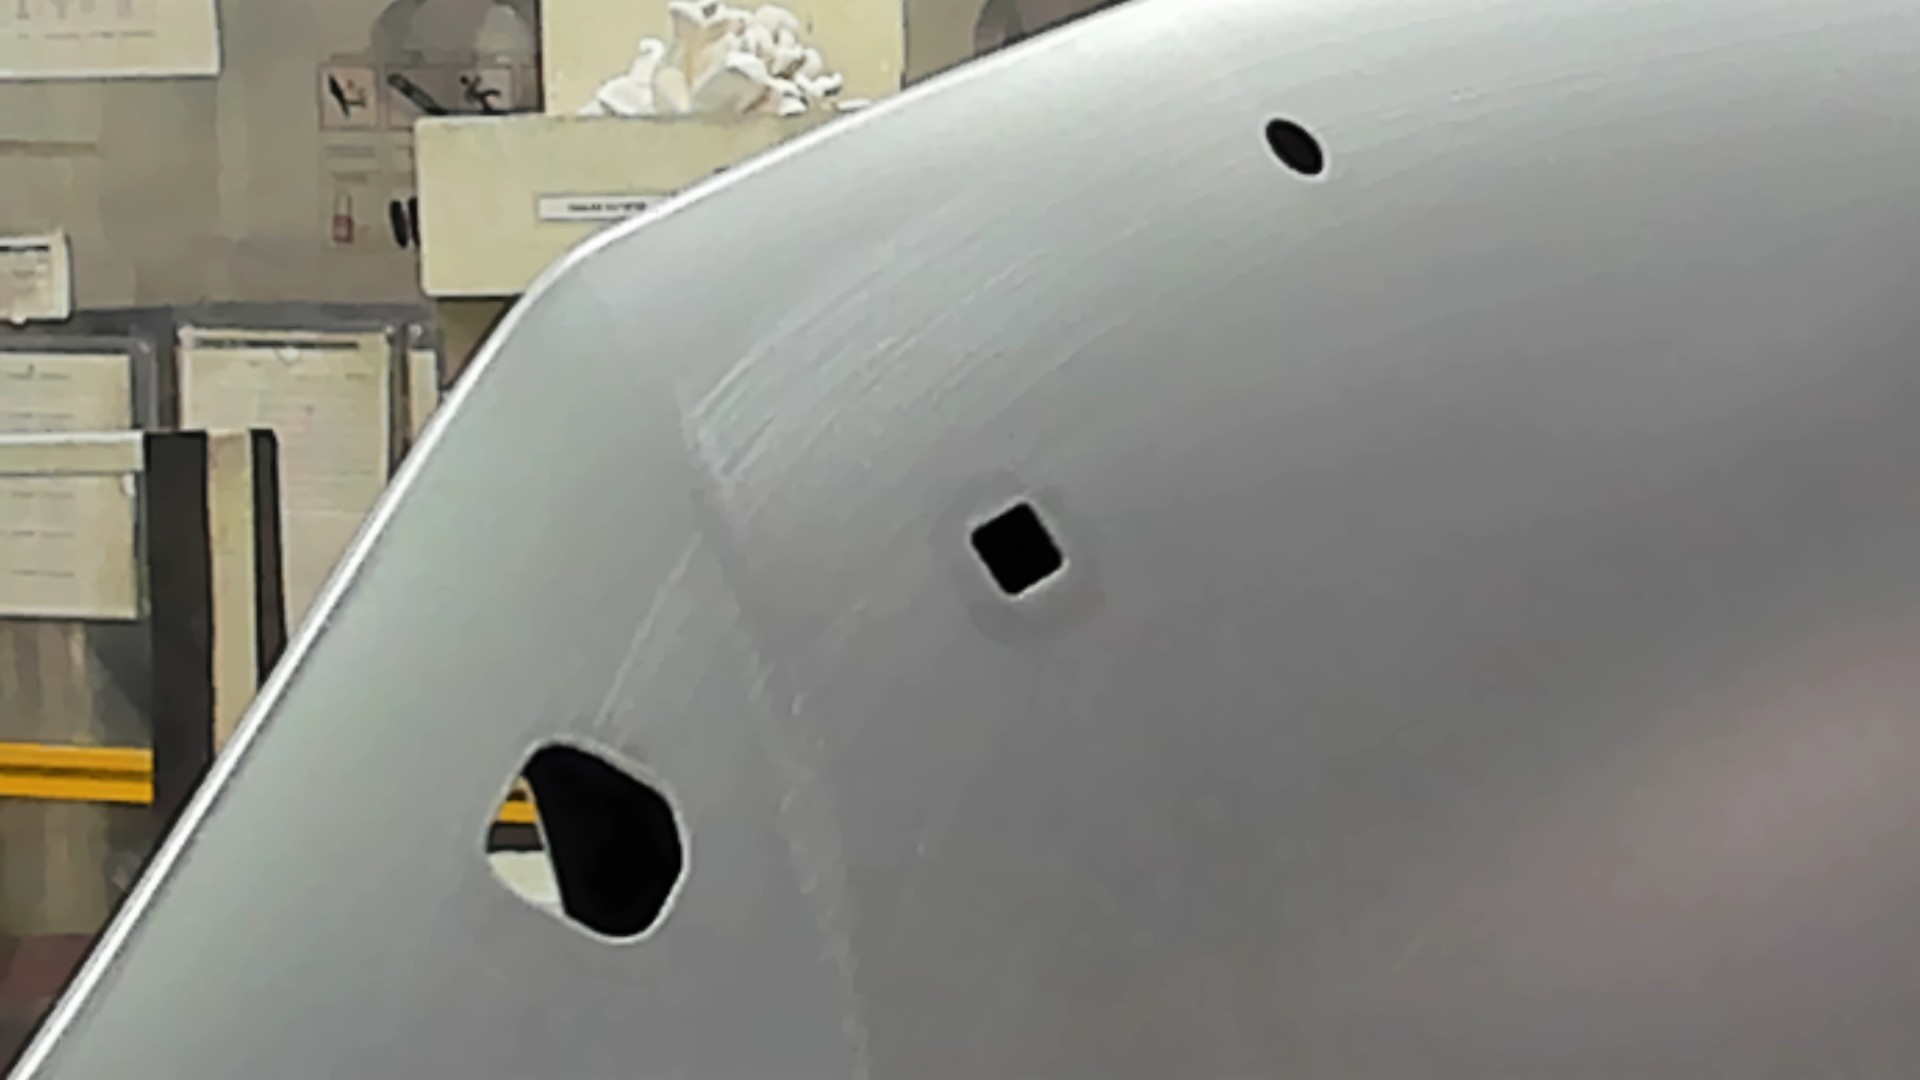chico: (1257, 111, 1331, 183)
grande: (473, 731, 698, 953)
mediano: (964, 491, 1073, 611)
